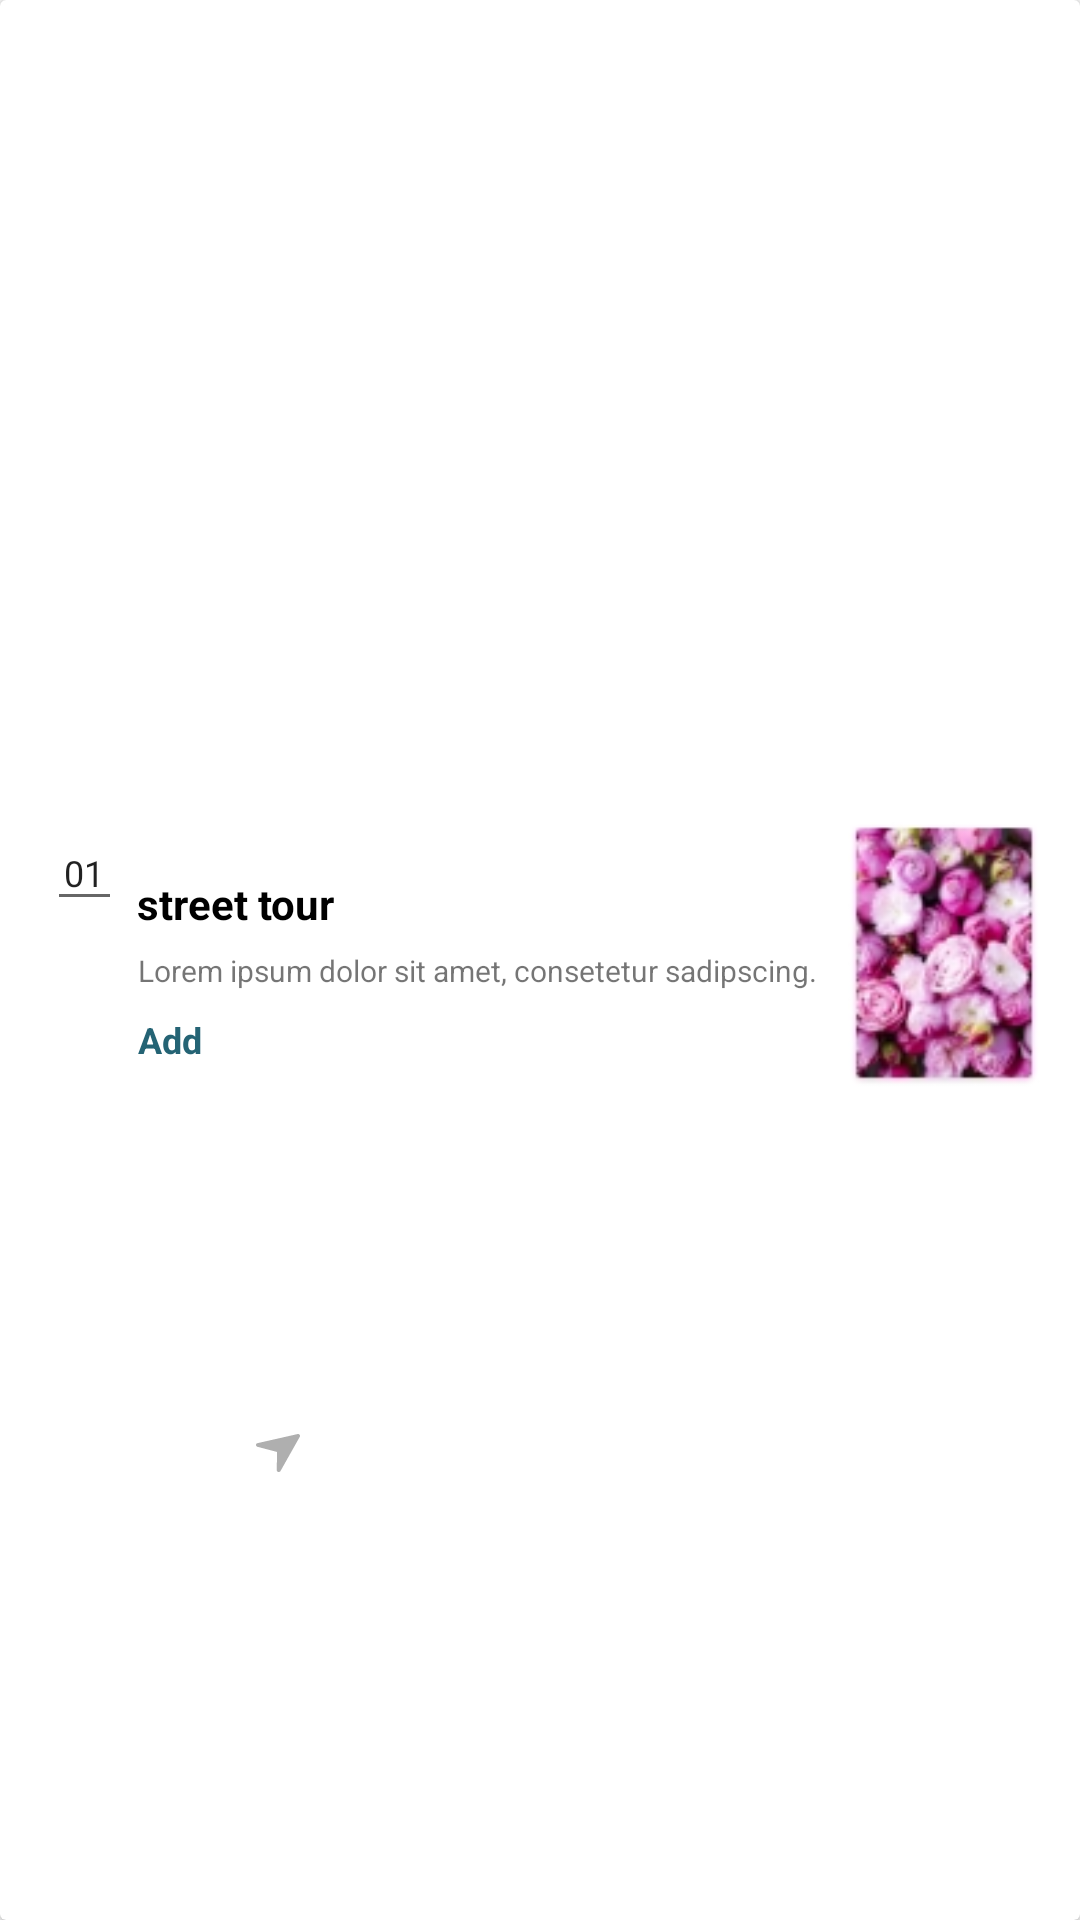

Screen size 1080*1920. Icon name, then its center in pixels as (x,y):
pinkroses: (944,954)
